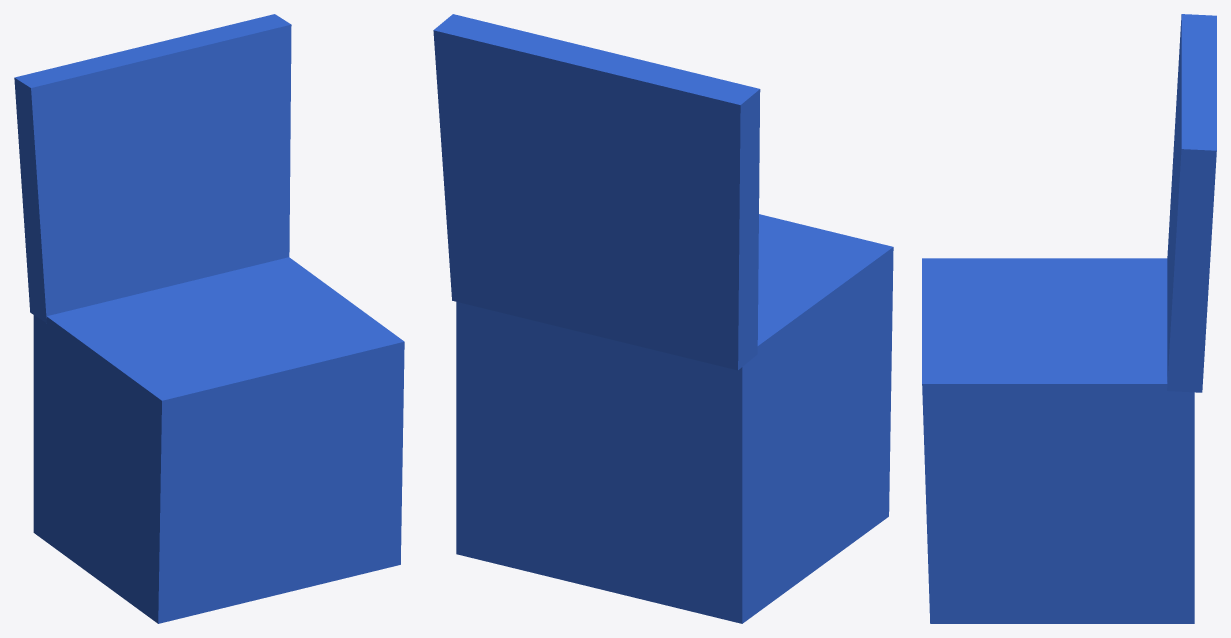
The model's file is Collision_Chair_2.fbx.
3 views of the same model, side by side, from view 1: azimuth 30°, elevation 25°; view 2: azimuth 150°, elevation 25°; view 3: azimuth 270°, elevation 25° (orthographic). The views are drawn at different scales.
Visible parts, largest first — view 1: UCX_Chair_2_1, UCX_Chair_2_2; view 2: UCX_Chair_2_1, UCX_Chair_2_2; view 3: UCX_Chair_2_1, UCX_Chair_2_2.
Part boxes in pixels (<box>): UCX_Chair_2_1: <box>33,257,404,623</box>; UCX_Chair_2_2: <box>14,14,291,322</box>; UCX_Chair_2_1: <box>456,214,893,623</box>; UCX_Chair_2_2: <box>433,14,760,370</box>; UCX_Chair_2_1: <box>922,258,1194,623</box>; UCX_Chair_2_2: <box>1167,14,1216,392</box>.
Bounding box in the file's own units: 59.04 × 97.77 × 54.46.
